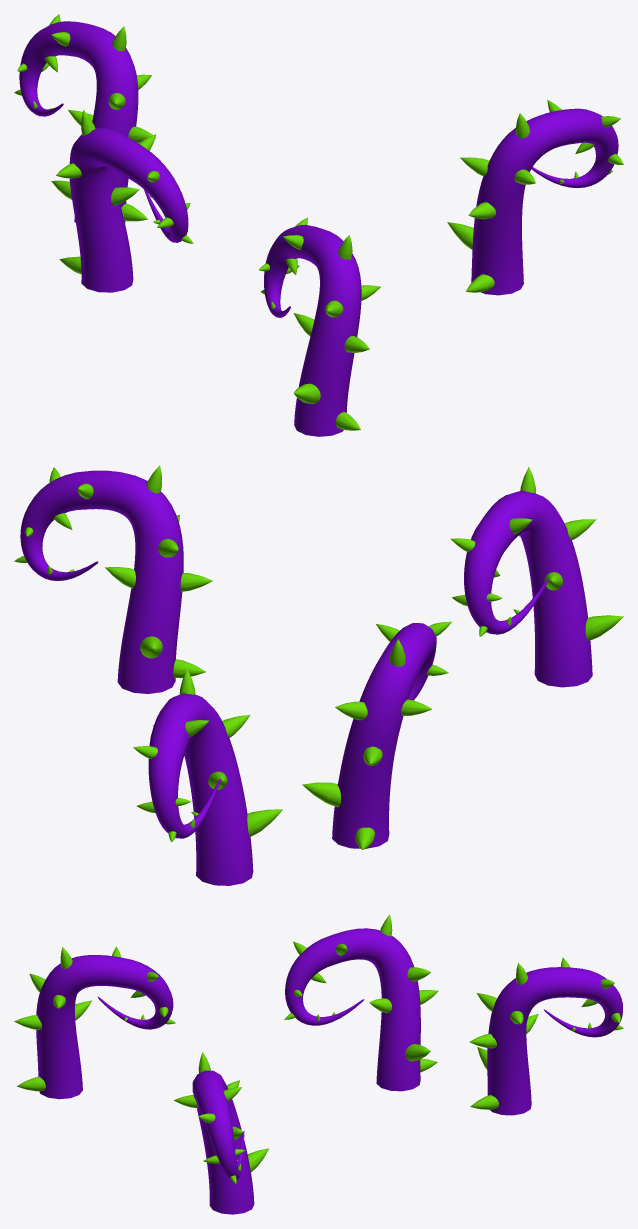
Rendered from Vine4.fbx.
3 renders of one model, top to bottom at view 1: azimuth 30°, elevation 25°; view 2: azimuth 150°, elevation 25°; view 3: azimuth 270°, elevation 25°, orthographic. The views are drawn at different scales.
Visible parts, largest first — view 1: Bramble1; view 2: Bramble1; view 3: Bramble1.
Part boxes in pixels (<box>): Bramble1: <box>14,14,623,436</box>; Bramble1: <box>14,465,623,885</box>; Bramble1: <box>14,914,623,1214</box>.
Size of the model in its own units: 855 by 323 by 1133.
